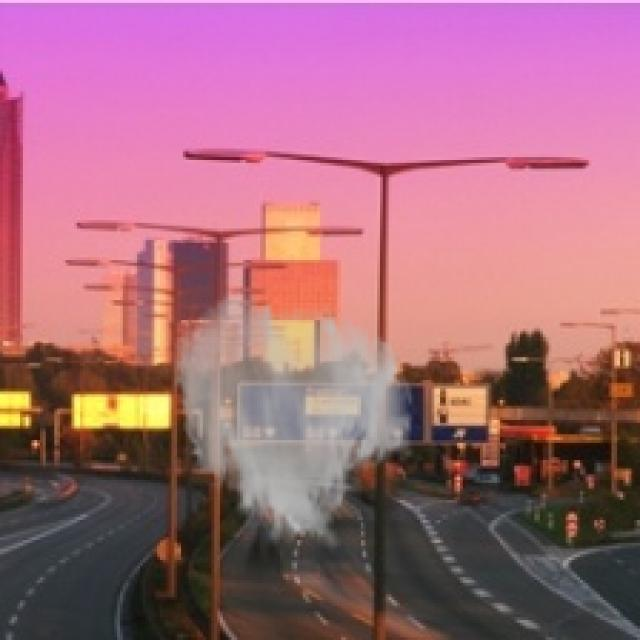smoke: (172, 289, 417, 554)
